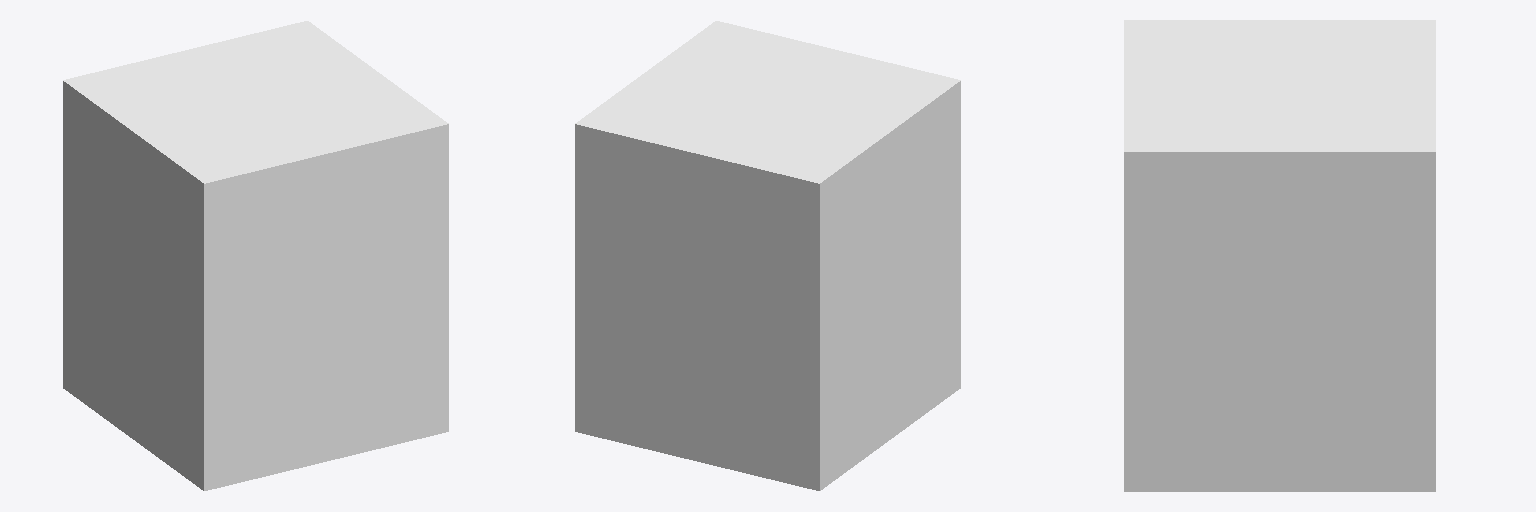
URDF robot description (obstacle2.obj):
<robot name="obstacle2.obj">
	<link name="_name">
		<visual>
			<origin xyz="0.0 0.0 -30.0" rpy="0 0 0" />
			<geometry>
				<mesh filename="obstacle2.obj" scale="1.0 1.0 1.0" />
			</geometry>
			<material name="texture">
				<color rgba="1.0 1.0 1.0 1.0" />
			</material>
		</visual>
		<collision>
			<geometry>
				<mesh filename="obstacle2_vhacd.obj" scale="1.0 1.0 1.0" />
			</geometry>
		<origin xyz="0.0 0.0 -30.0" rpy="0 0 0" /></collision>
		<inertial>
			<mass value="1.0" />
			<inertia ixx="1.0" ixy="0.0" ixz="0.0" iyy="1.0" iyz="0.0" izz="1.0" />
		</inertial>
	</link>
</robot>

--- What the picture shows (computed from the rendered views, not written in the file) ---
Views: 3 orthographic renders of the robot side by side, from view 1: azimuth 30°, elevation 25°; view 2: azimuth 150°, elevation 25°; view 3: azimuth 270°, elevation 25°.
Robot: obstacle2.obj — 1 links, 0 joints (none); root link _name; default pose: all joints at 0.
Links seen in each view (by area): view 1: _name; view 2: _name; view 3: _name.
Boxes of the visible links, left/top/right/bottom form: _name: left=63, top=21, right=448, bottom=490; _name: left=575, top=21, right=960, bottom=490; _name: left=1124, top=20, right=1435, bottom=491.
Size in the robot's own frame: 50 by 50 by 60 metres.
1 mesh visuals loaded from 1 distinct referenced files (1 OBJ).